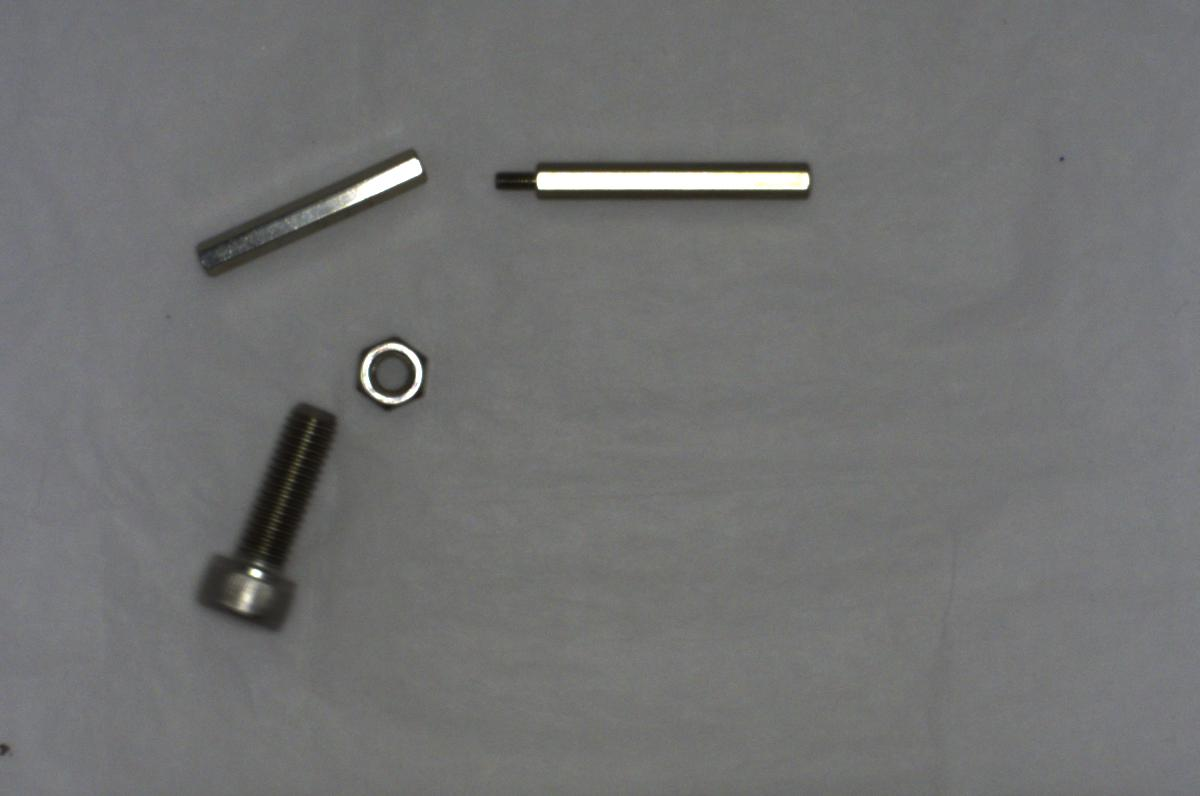Double hexagonal column: (184, 147, 426, 280)
Hexagon nut: (350, 333, 435, 410)
Hexagon screw: (187, 396, 345, 629)
Hexagonal steel column: (486, 152, 819, 201)
